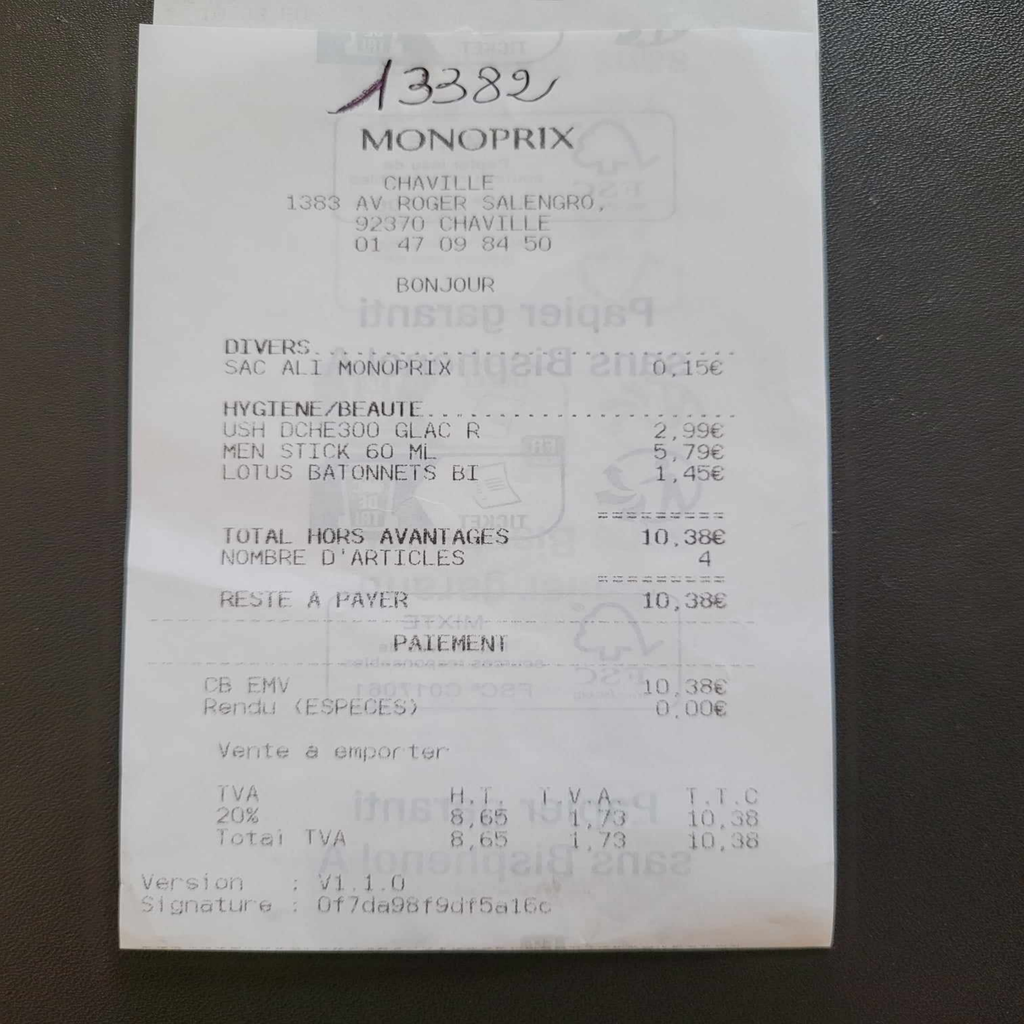recipt: (118, 4, 839, 951)
